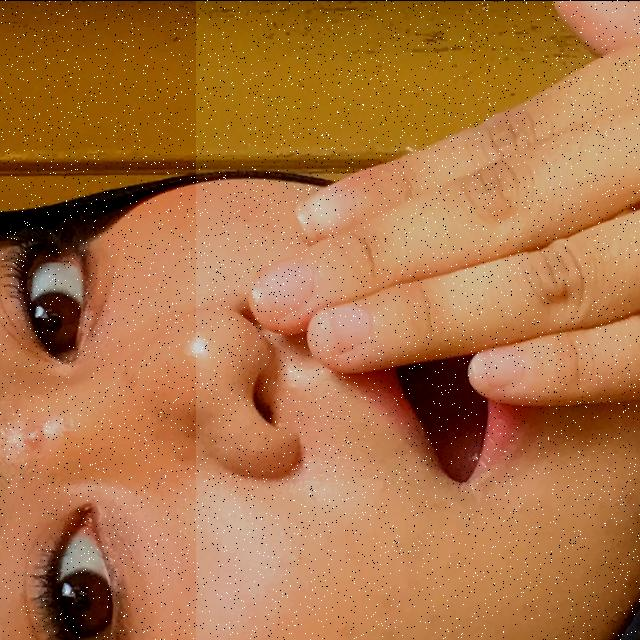ngantuk: (196, 0, 640, 640)
